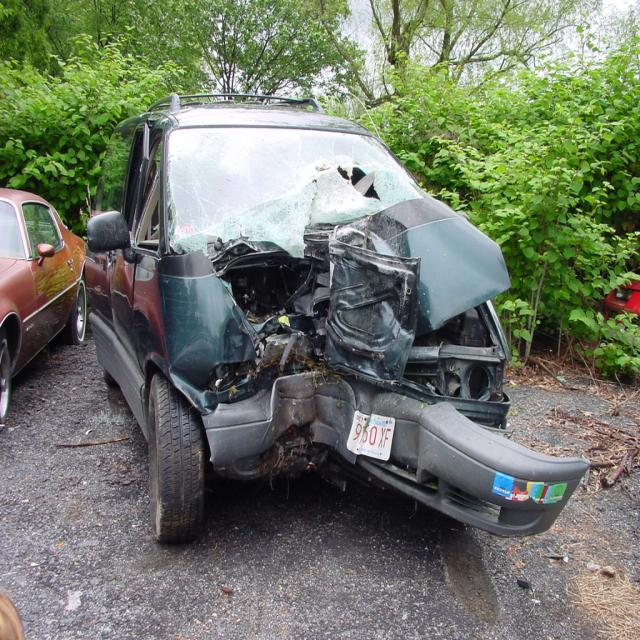car: (0, 175, 82, 388)
